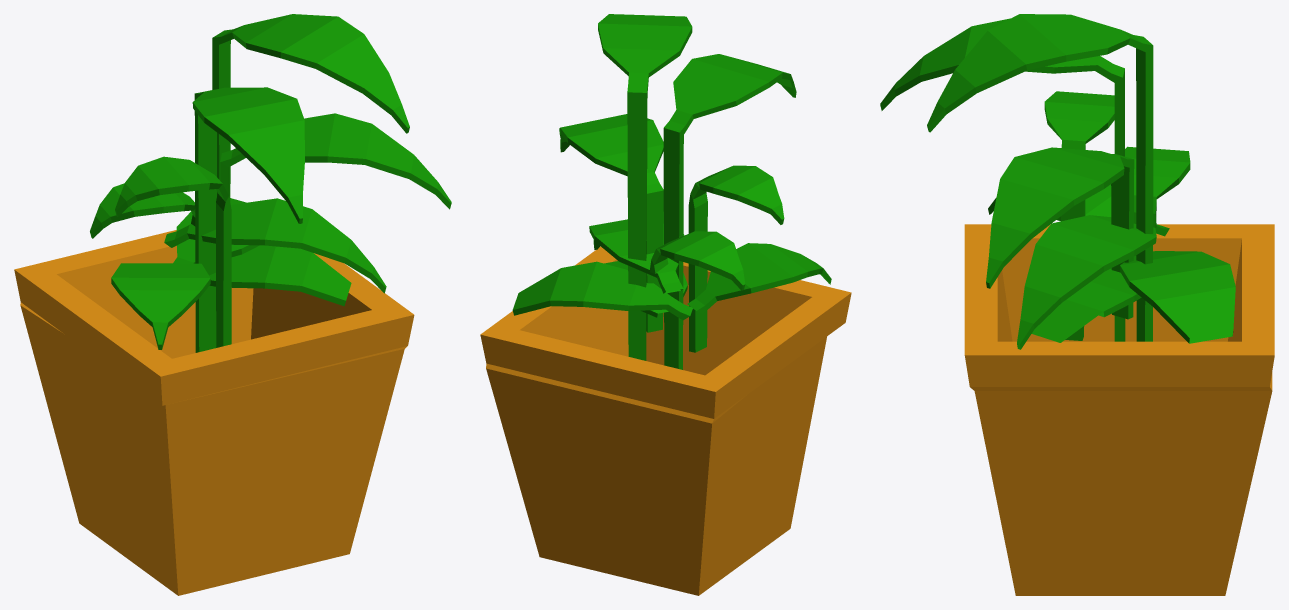
File: maceta.fbx
3 views of the same model, side by side, from view 1: azimuth 30°, elevation 25°; view 2: azimuth 150°, elevation 25°; view 3: azimuth 270°, elevation 25° (orthographic). The views are drawn at different scales.
Parts seen in each view (by area): view 1: Cube.117; view 2: Cube.117; view 3: Cube.117.
Part boxes in pixels (bbox=[...]): Cube.117: bbox=[14, 14, 451, 595]; Cube.117: bbox=[480, 14, 851, 595]; Cube.117: bbox=[880, 14, 1274, 595].
Bounding box in the file's own units: 81.92 × 134 × 87.43.
